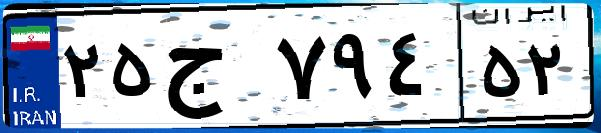2: (57, 26, 110, 100), (525, 38, 570, 115)
4: (385, 28, 445, 110)
5: (475, 38, 525, 113), (110, 28, 158, 98)
7: (270, 28, 330, 110)
9: (330, 28, 385, 110)
ج: (158, 20, 270, 120)
